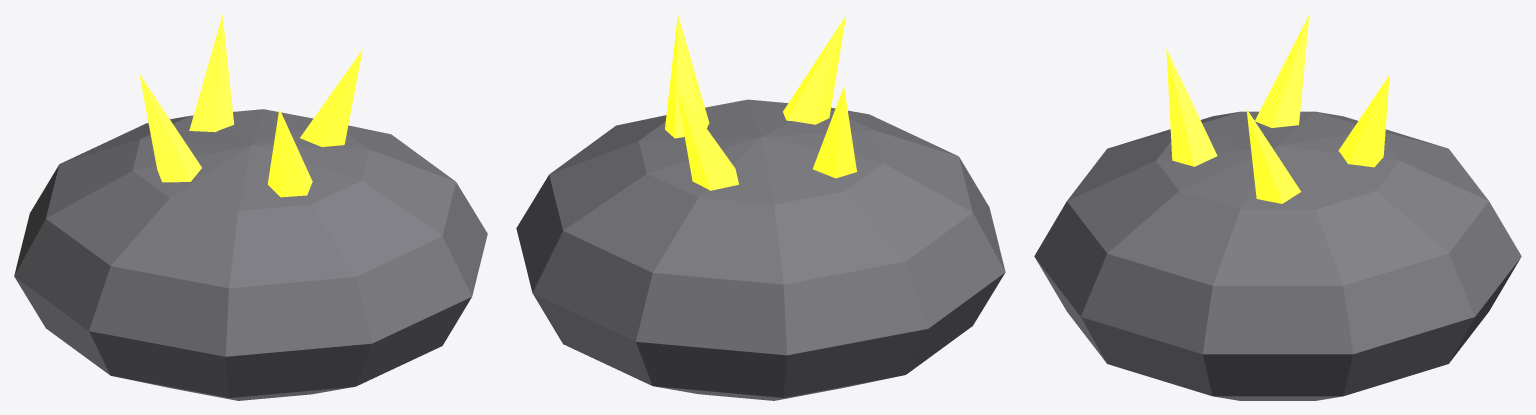
File: ore_node_fire.fbx
The picture shows the model from 3 angles, left to right: view 1: azimuth 30°, elevation 25°; view 2: azimuth 150°, elevation 25°; view 3: azimuth 270°, elevation 25°; orthographic projection. The views are drawn at different scales.
Visible parts, largest first — view 1: Cone.003; view 2: Cone.003; view 3: Cone.003.
Part boxes in pixels (box(x1,y1,x2,y2)): Cone.003: box(14, 15, 487, 400); Cone.003: box(516, 15, 1005, 400); Cone.003: box(1034, 14, 1521, 400).
Size of the model in its own units: 228 by 166 by 240.
